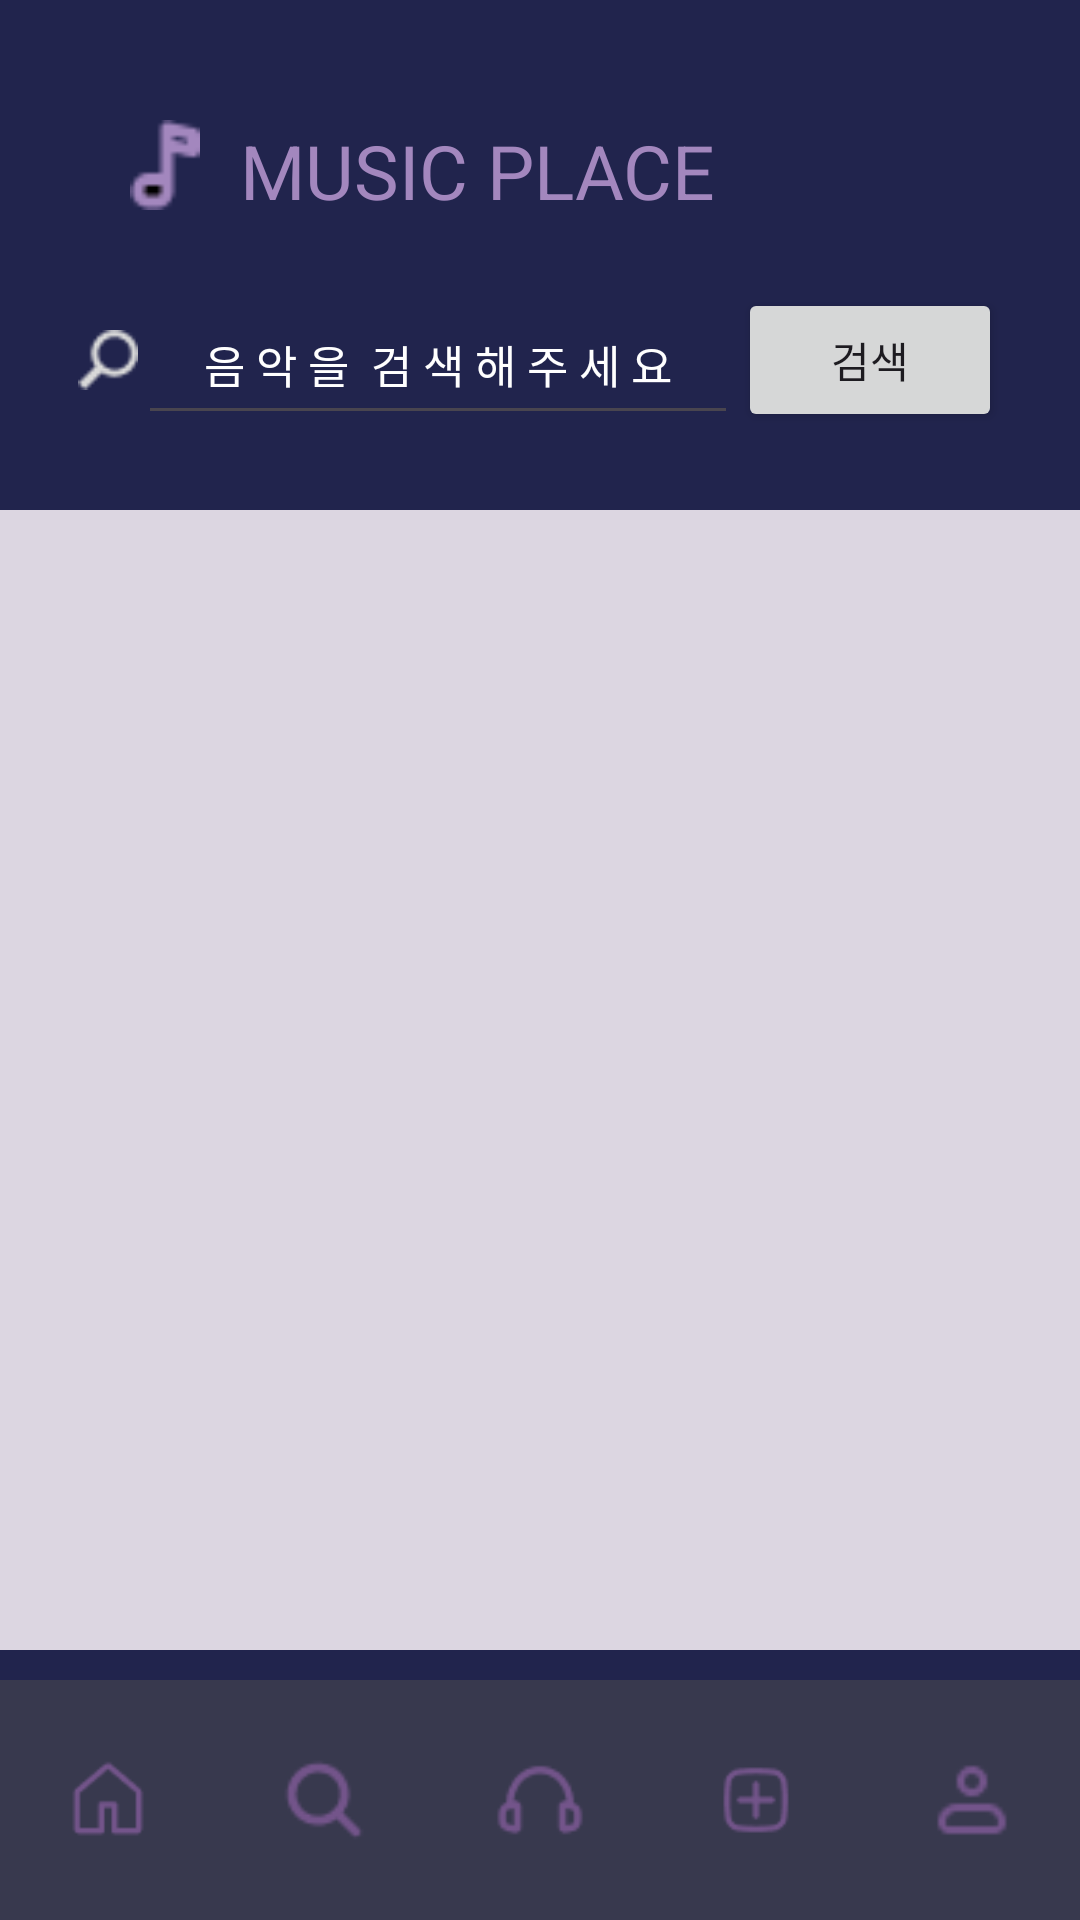

Where icons sit on this 1080px x 1920px app screen, as rect(x1, y1, x2, y2):
search: rect(78, 330, 138, 390)
